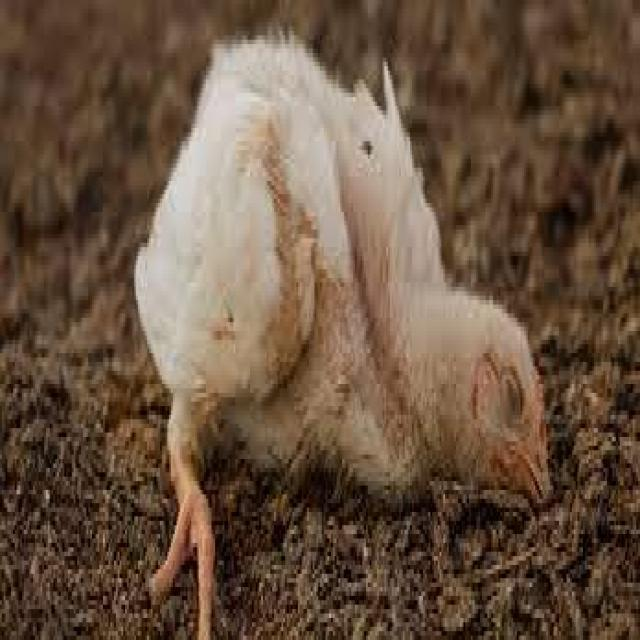Unhealthy: (119, 28, 553, 622)
